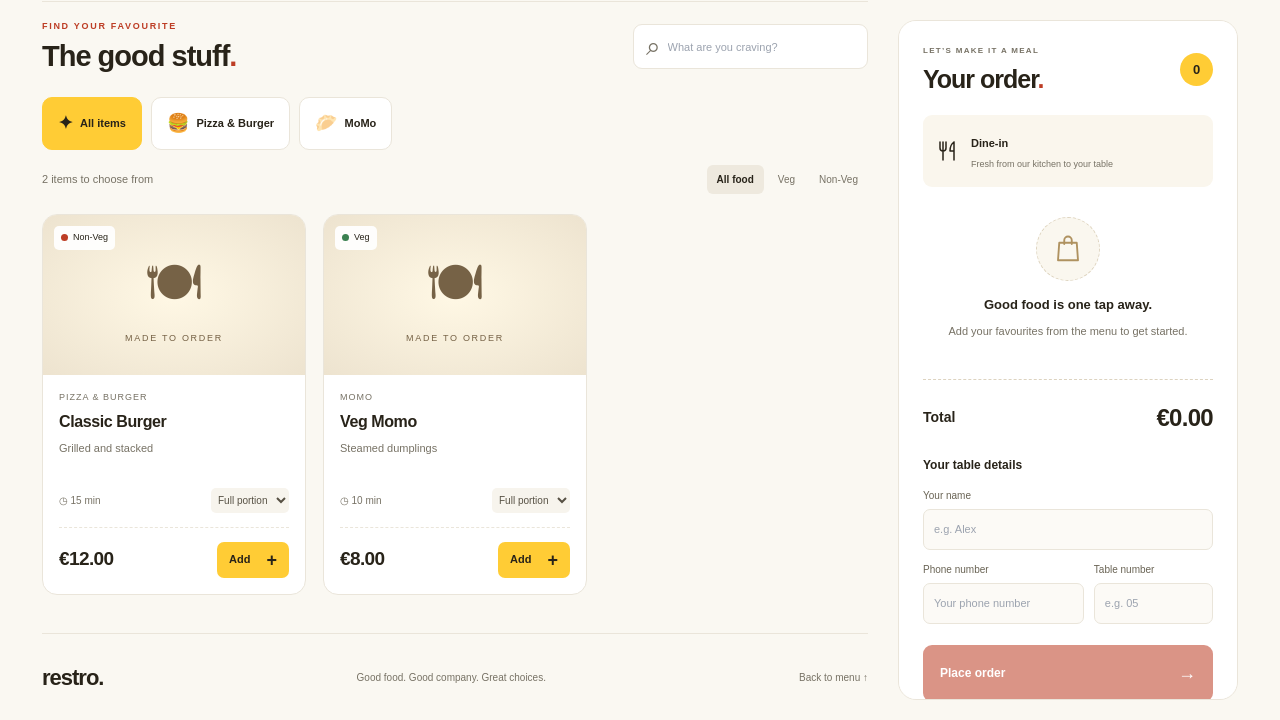
Test: keeps half and full quantities separate, with correct totals and removals
(page scrolled)
Click the button with aria-label "Add Classic Burger, full portion" at (253, 560), box [217,542,289,578]
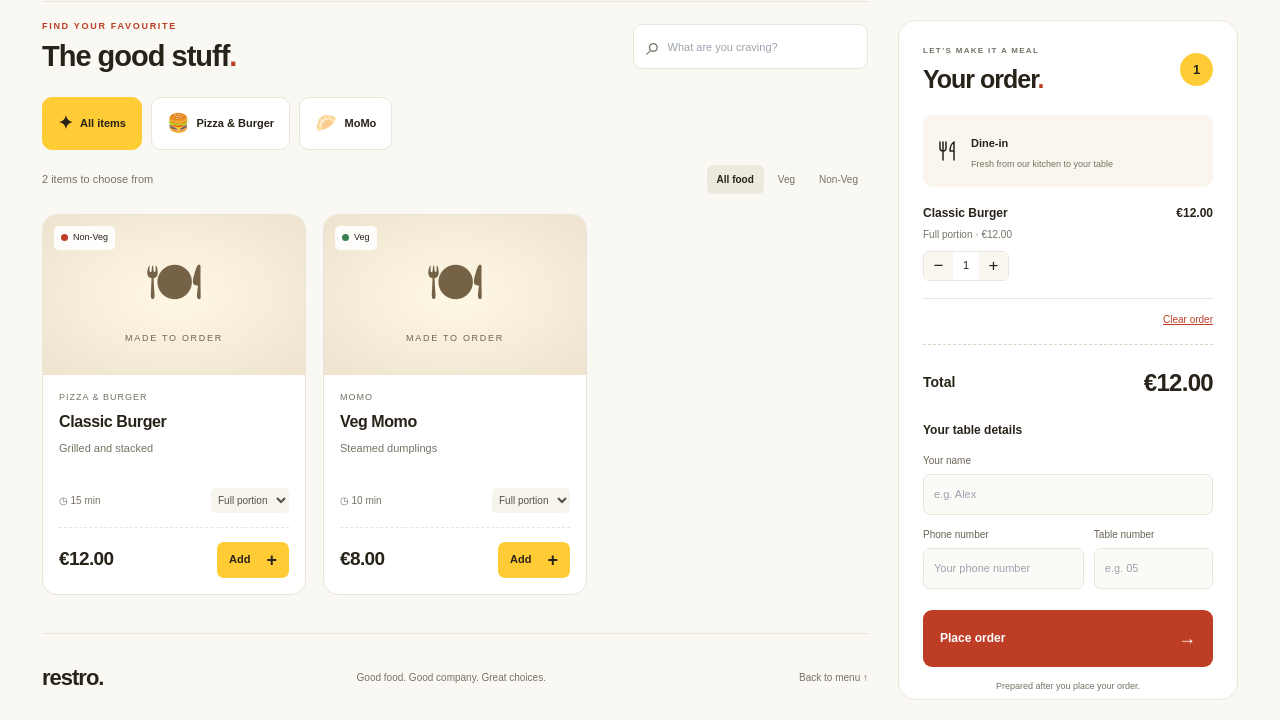
Select "Half portion" in the dropdown named "Portion for Classic Burger" at (250, 500), box [211,488,289,513]
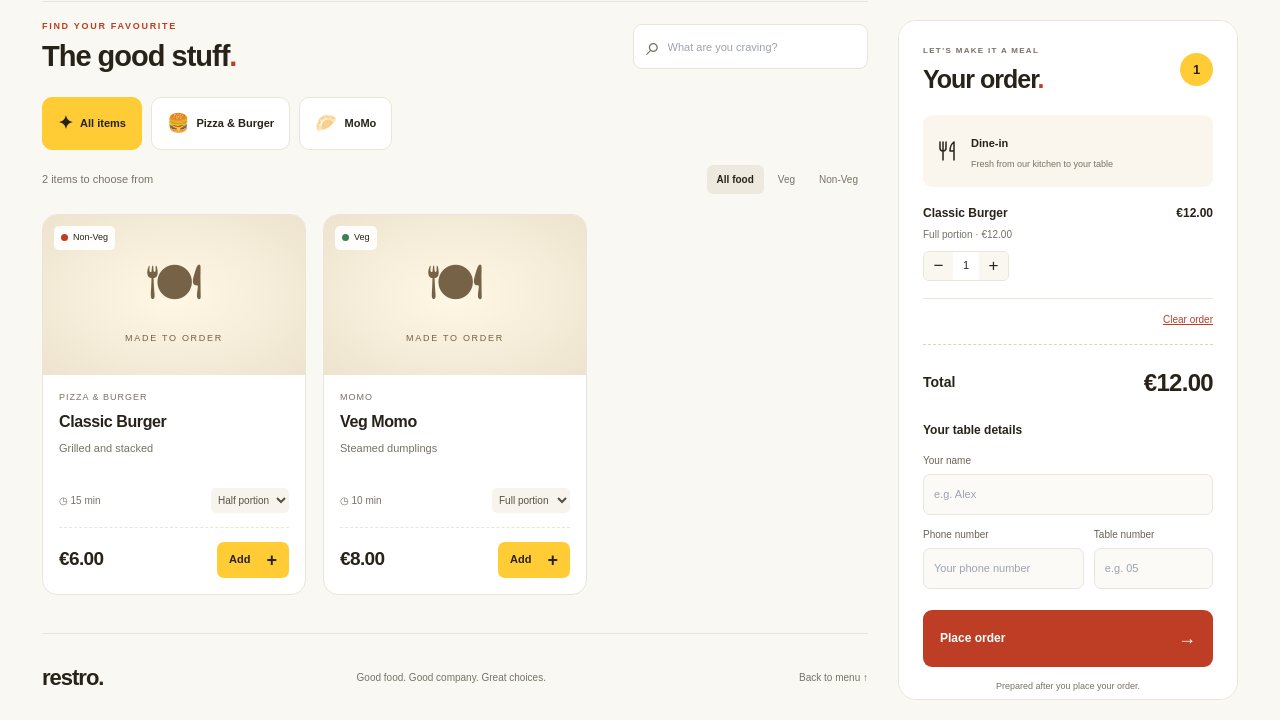
Click the button with aria-label "Add Classic Burger, half portion" at (253, 560), box [217,542,289,578]
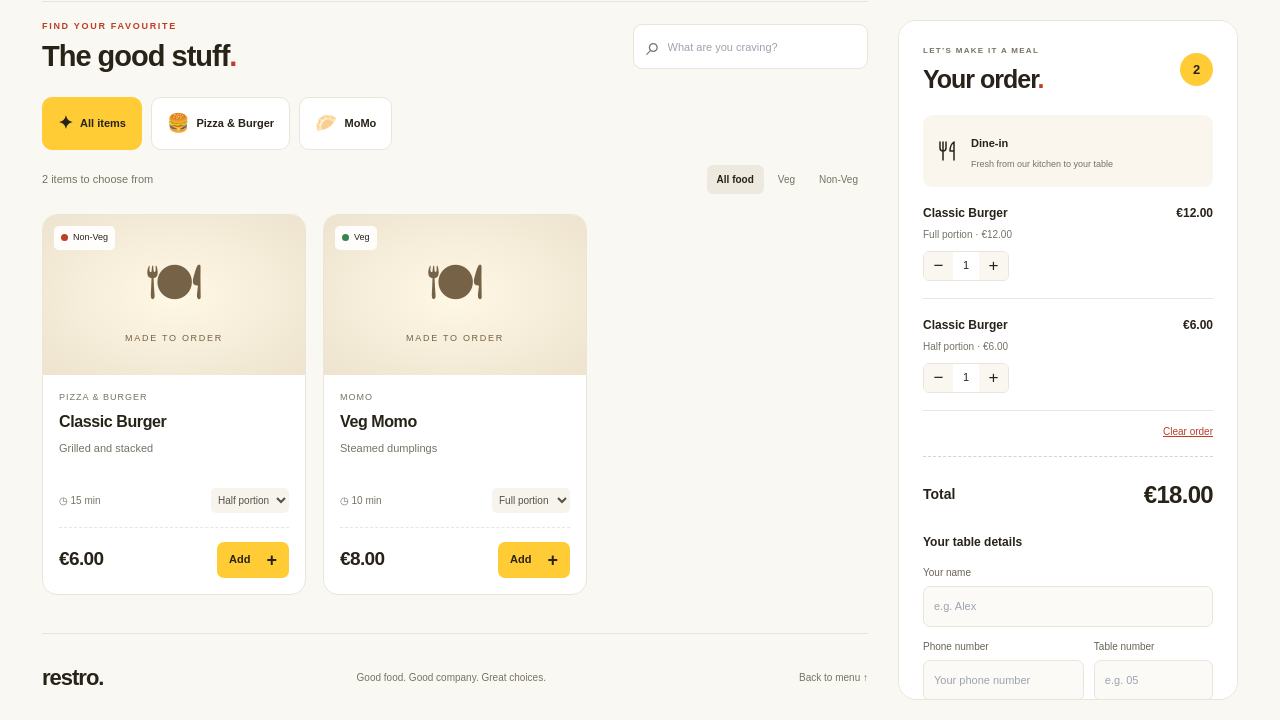
Click the button named "Add one Classic Burger, half portion" at (994, 378), box [979,364,1008,392]
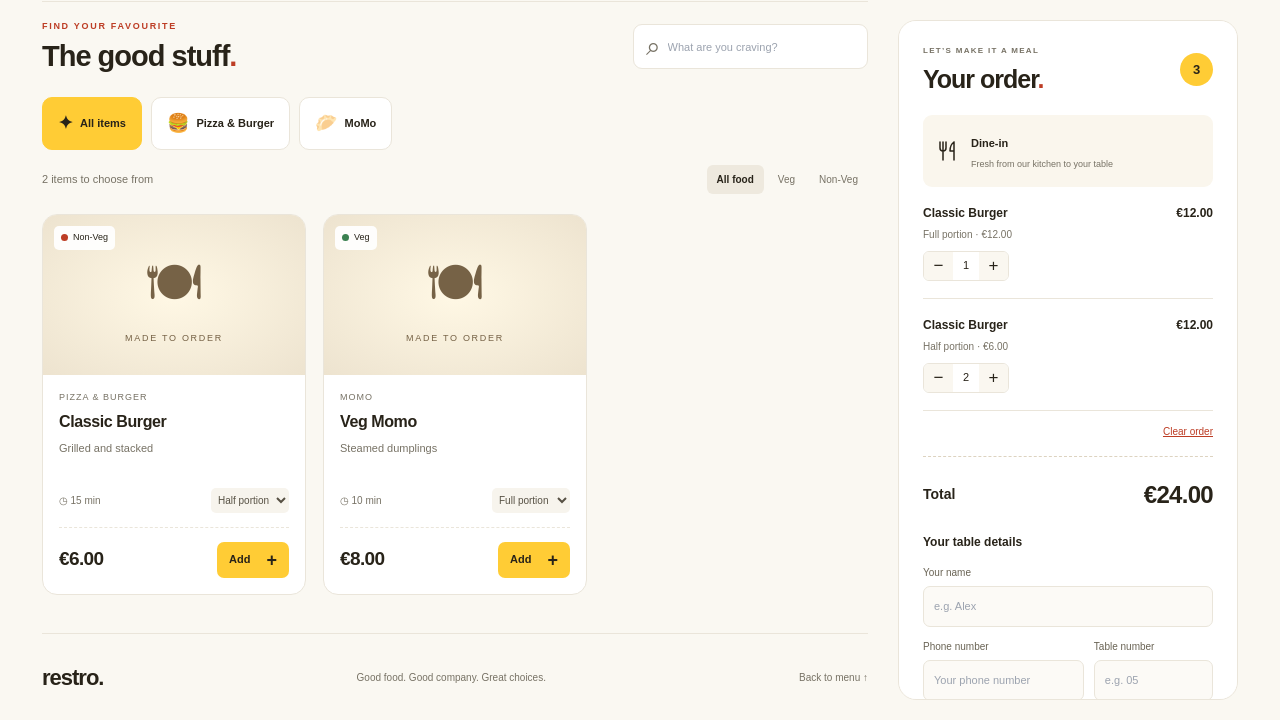
Expected: the text named "Quantity" reads "1", [963,259,969,271]
Expected: the text "€24.00" is shown, [1144,476,1213,512]
Expected: the text named "Quantity" reads "2", [963,371,969,383]
Click the button named "Remove one Classic Burger, full portion" at (938, 266), box [924,252,953,280]
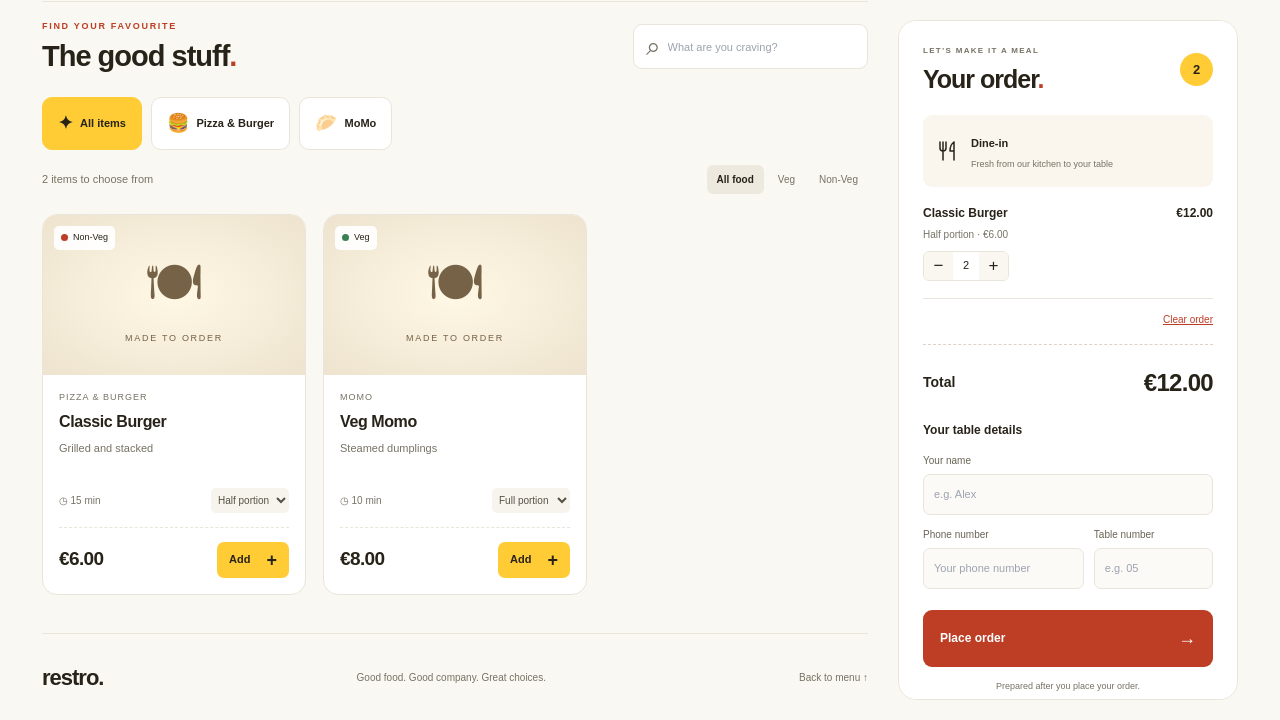
Expected: the element with class "order-total" shows "€12.00", [1144,368,1213,396]
